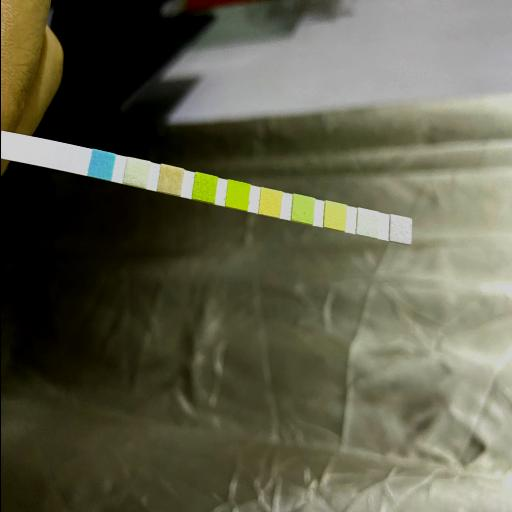Bilirubin: (128, 160, 146, 186)
Blood: (228, 182, 244, 206)
Glucose: (90, 152, 112, 176)
Ketone: (160, 167, 178, 193)
Leukocytes: (391, 218, 407, 242)
Nitrite: (357, 211, 375, 235)
Protein: (292, 197, 310, 220)
SpGravity: (194, 175, 212, 200)
Urobilinogen: (324, 204, 342, 228)
pH: (260, 190, 278, 214)
strip: (0, 131, 411, 245)
